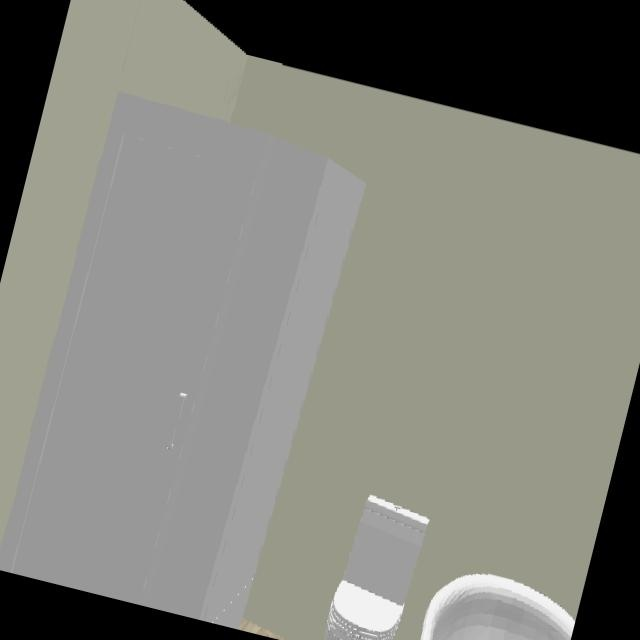bathtube: (418, 573, 574, 640)
shower: (0, 93, 366, 629)
toilet: (323, 495, 431, 640)
